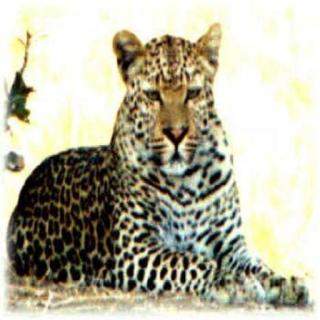Leopard: (20, 11, 288, 294)
